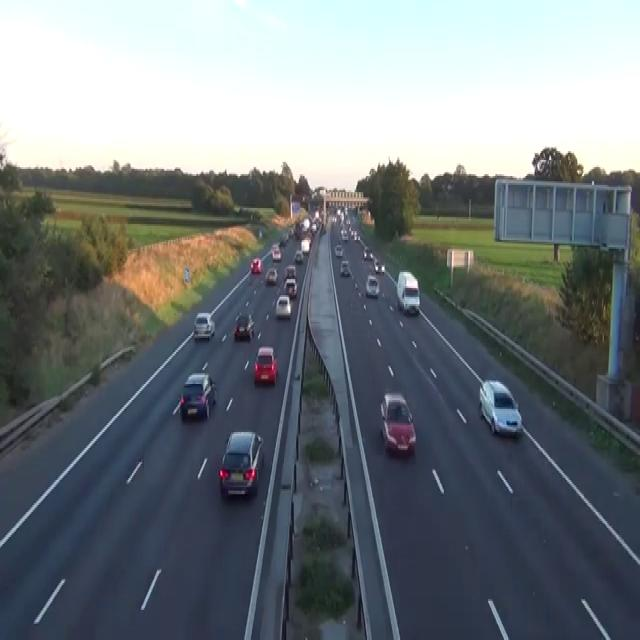Car: (218, 430, 264, 498), (478, 379, 522, 437), (379, 393, 416, 455), (179, 372, 216, 419), (396, 270, 420, 315), (253, 345, 278, 384), (193, 311, 214, 340), (233, 313, 254, 341), (275, 294, 291, 318), (365, 274, 379, 297), (632, 310, 639, 356), (283, 277, 297, 297), (265, 266, 278, 284), (250, 256, 262, 274), (283, 263, 296, 279), (339, 260, 350, 276), (374, 258, 385, 274), (271, 246, 281, 262), (363, 246, 373, 260), (294, 249, 303, 263), (301, 238, 310, 252), (279, 233, 288, 247), (334, 244, 343, 256), (341, 229, 348, 242), (271, 242, 277, 254), (278, 237, 285, 247), (321, 222, 326, 233), (380, 263, 385, 274), (311, 222, 316, 233), (288, 228, 293, 238), (258, 228, 262, 238)
